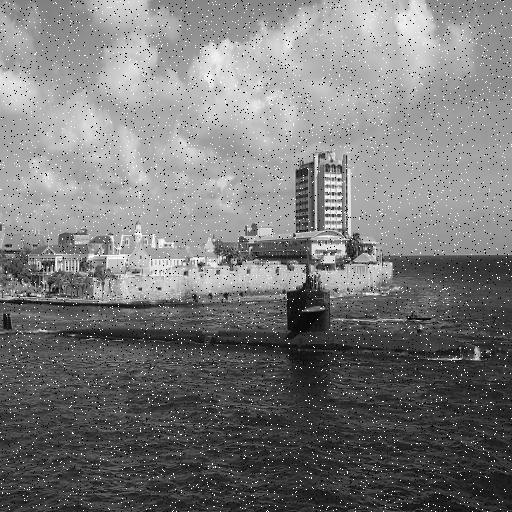submarine: (1, 263, 493, 360)
